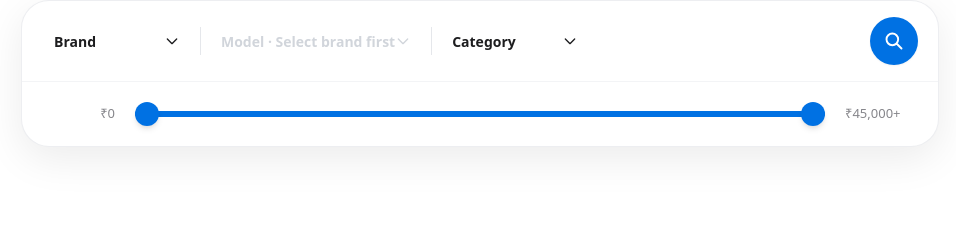
Test case: SearchBar › shows available brands when brand dropdown is clicked
Click the button "Brand": (117, 41) [42,22,192,60]
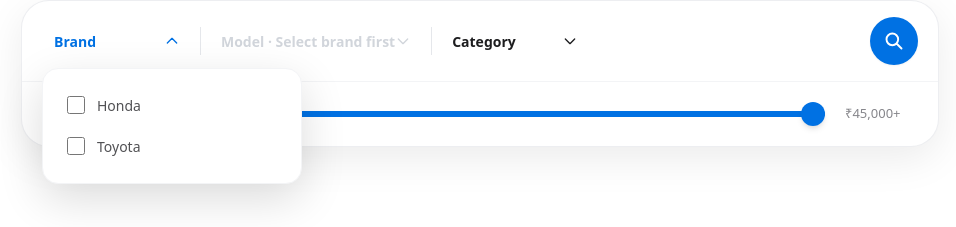
Result: the text "Toyota" is shown at [97,136,140,156]
Result: the text "Honda" is shown at [97,94,141,116]
